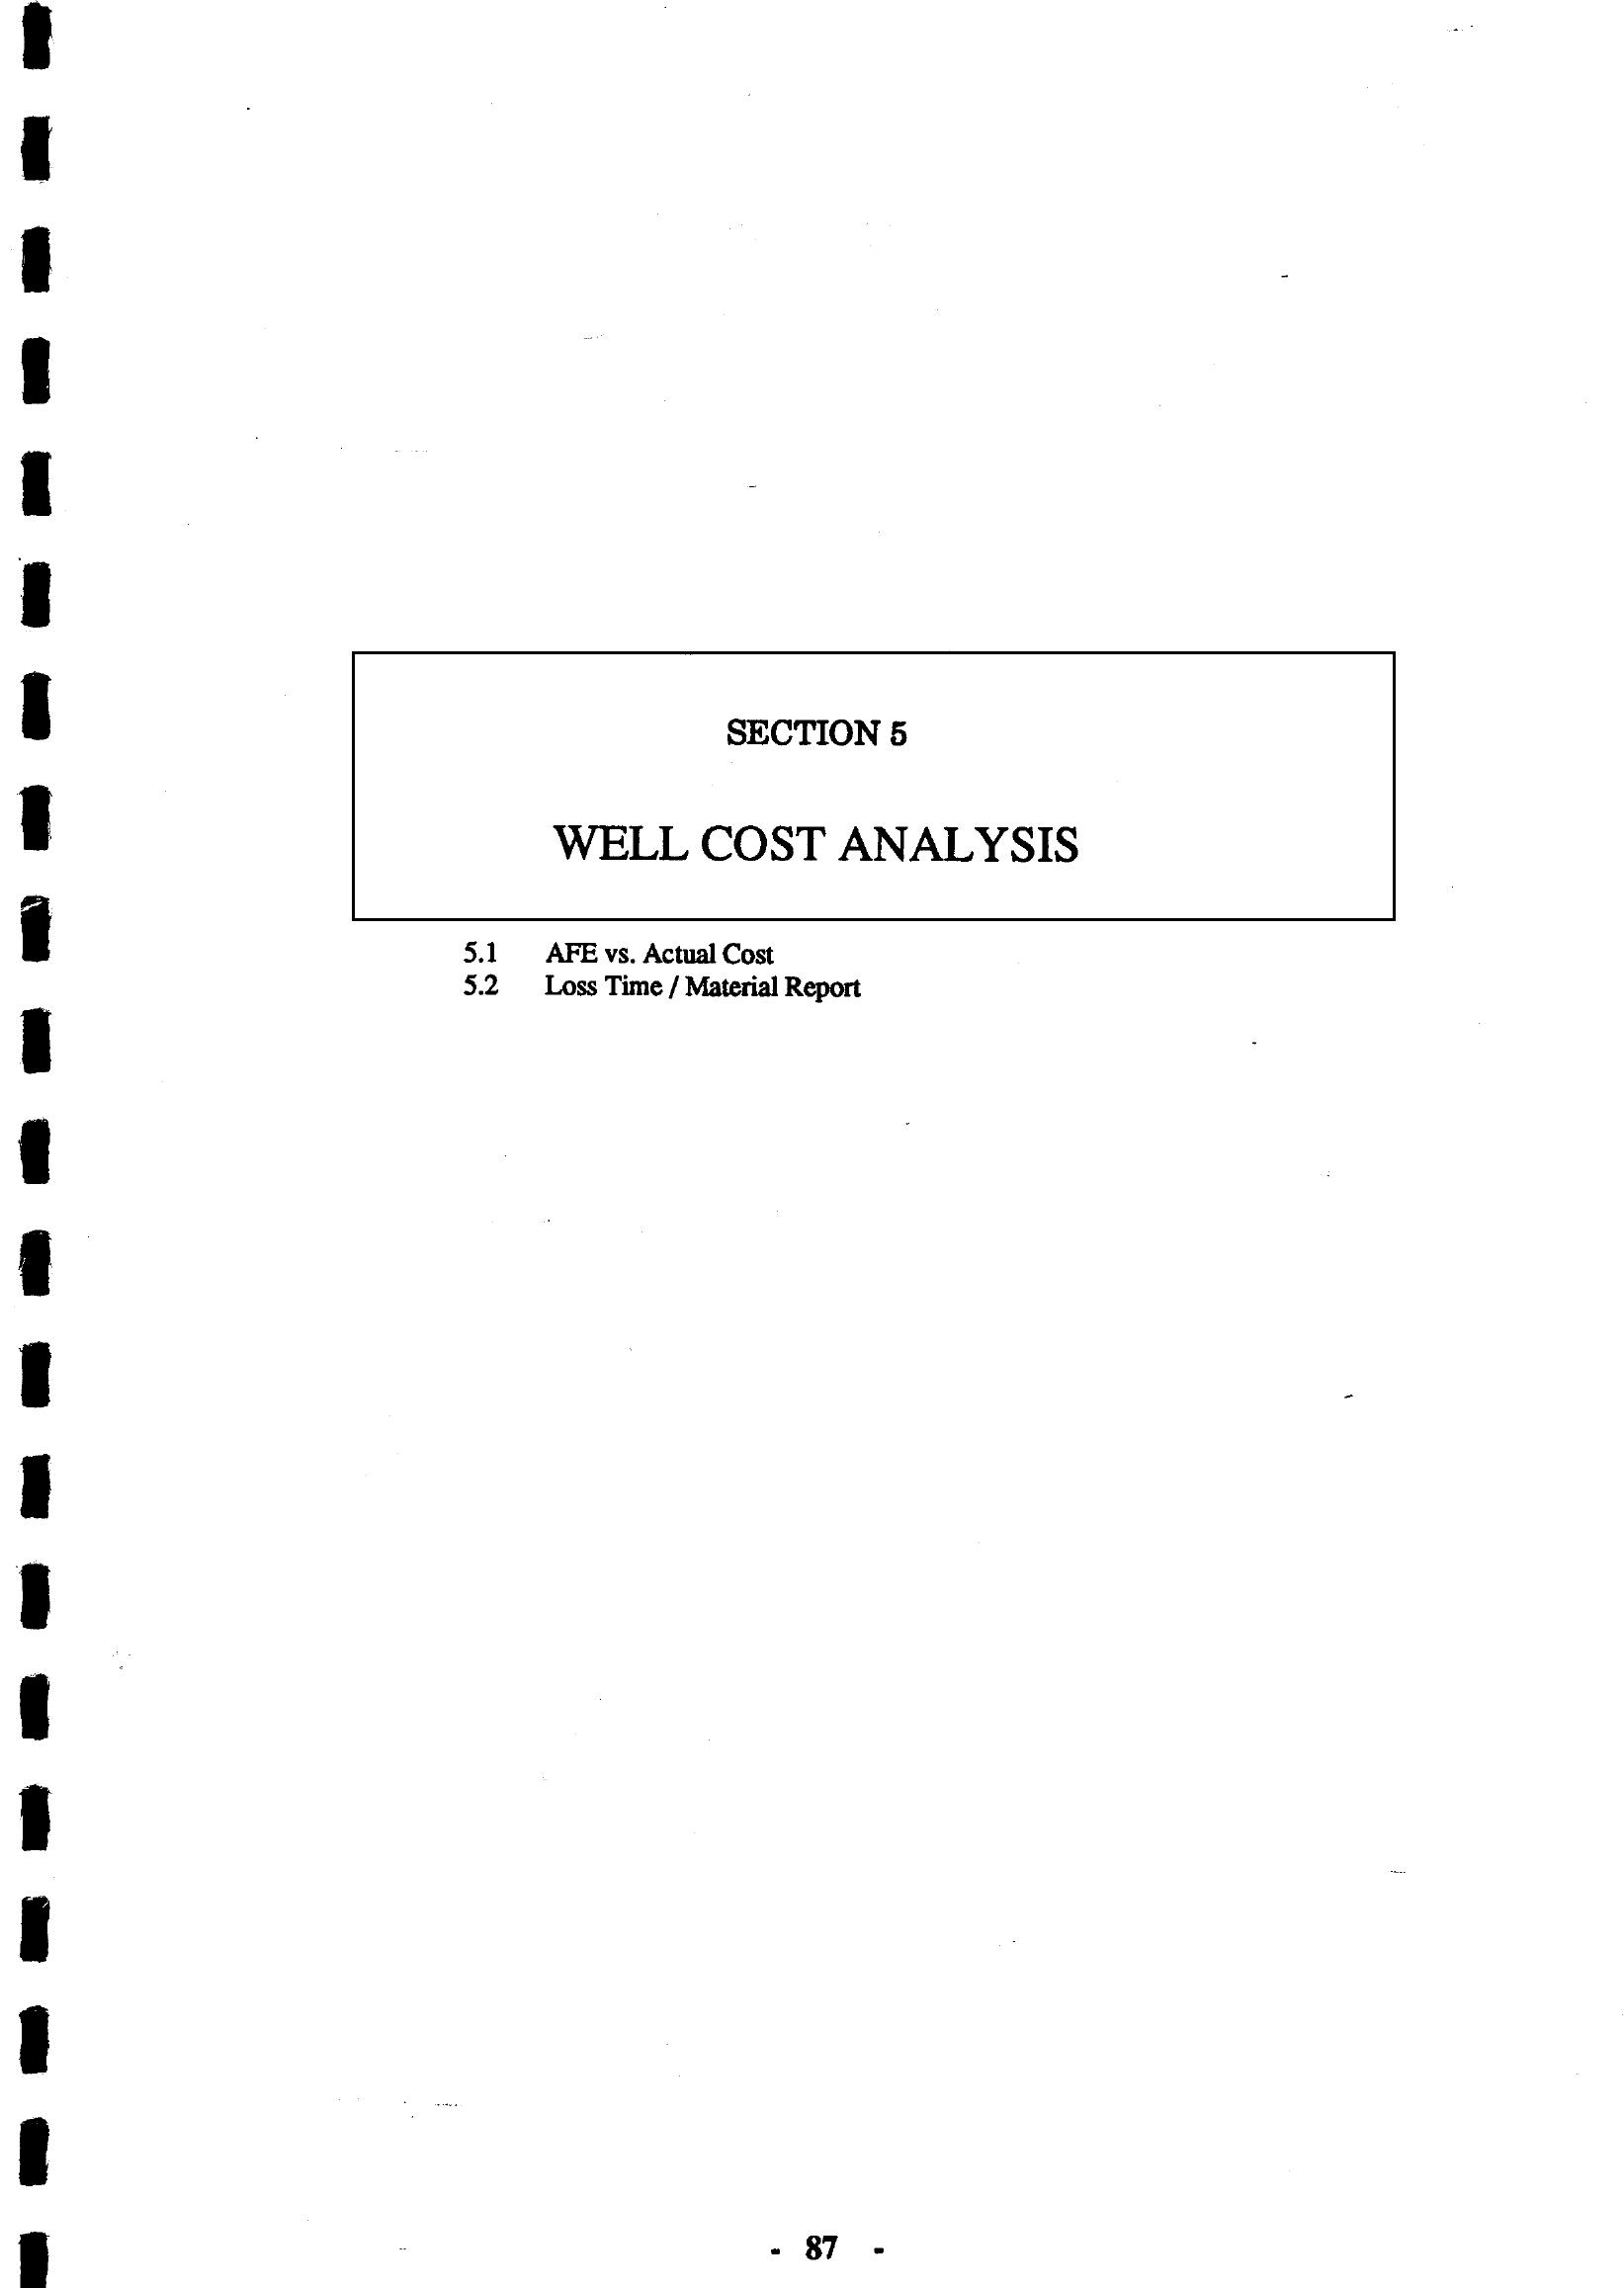text: (306, 599, 1432, 1054)
